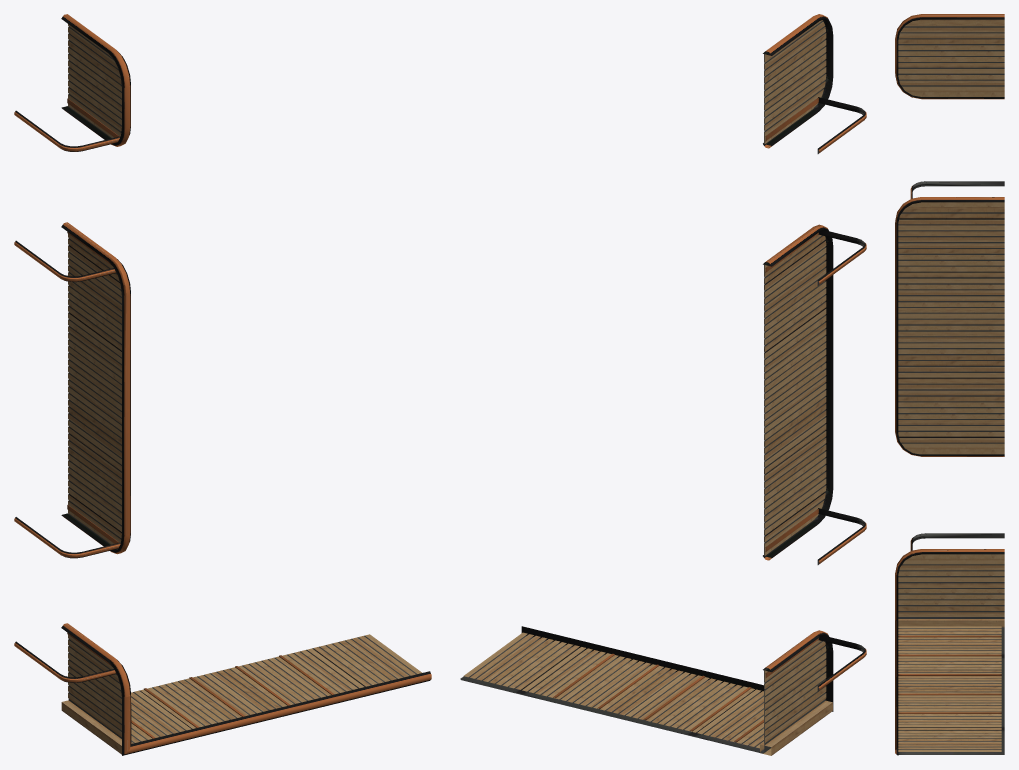
The model's file is nt_hydro_courtyard_LOD2.obj.
The picture shows the model from 3 angles, left to right: view 1: azimuth 30°, elevation 25°; view 2: azimuth 150°, elevation 25°; view 3: azimuth 270°, elevation 25°; orthographic projection. The views are drawn at different scales.
Visible parts, largest first — view 1: nt_wood_fence, mtl_nt_hydro_cabbage_holders; view 2: nt_wood_fence, mtl_nt_hydro_cabbage_holders; view 3: nt_wood_fence, mtl_nt_hydro_cabbage_holders.
Boxes of the visible parts, left/top/right/bottom form: nt_wood_fence: left=61, top=24, right=422, bottom=754; mtl_nt_hydro_cabbage_holders: left=14, top=14, right=431, bottom=755; nt_wood_fence: left=464, top=20, right=832, bottom=755; mtl_nt_hydro_cabbage_holders: left=460, top=14, right=866, bottom=753; nt_wood_fence: left=898, top=19, right=1004, bottom=751; mtl_nt_hydro_cabbage_holders: left=895, top=14, right=1004, bottom=755.
Bounding box in the file's own units: 732 × 1371 × 223.
